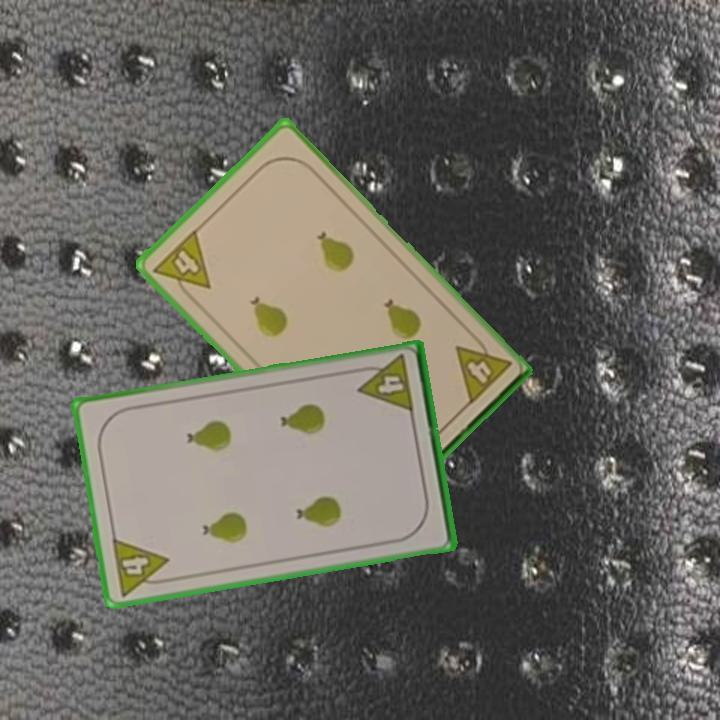4p: (149, 225, 214, 306), (451, 329, 514, 408), (108, 534, 175, 599), (352, 351, 417, 416)
